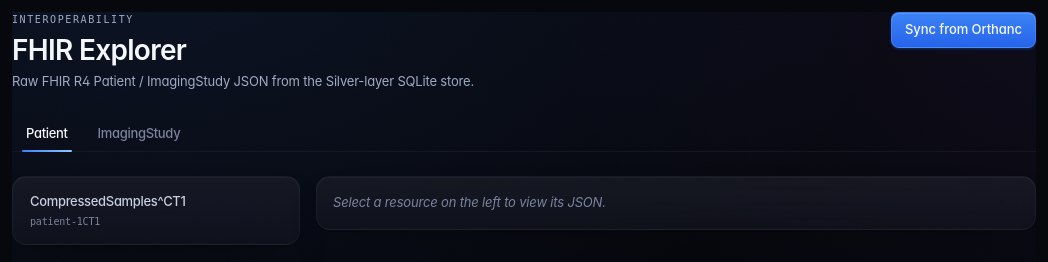
Test: FhirExplorer page › switches tabs to ImagingStudy and resets the selected resource
This screenshot has width=1048, height=262.
Check: the button "CompressedSamples^CT1 patient-1CT1" is shown, box [19,183,293,238]
Click the tab "ImagingStudy": (139, 133) [84,116,194,151]
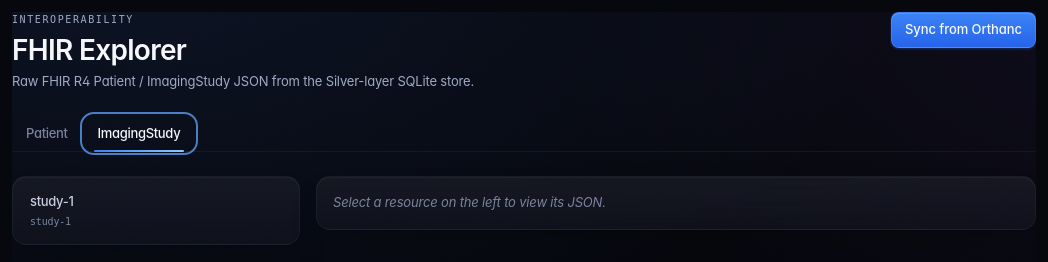
Check: the button "study-1 study-1" is shown, box [19,183,293,238]
Check: the button "CompressedSamples^CT1" is gone
